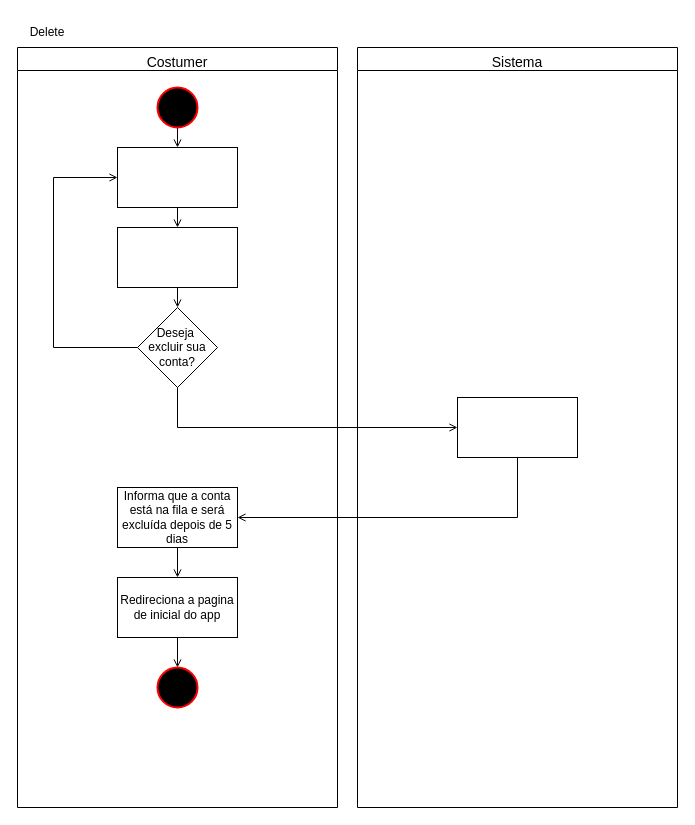
Image size: 695x825. Some labels were removed from this diagram. Each missing label, with the centre of its shape:
"Sistema recebe o pedido e coloca a conta na fila de exclusão" goes at point (517, 427).
"Usuário clicka deletar conta" goes at point (177, 257).
"Usuário estando na pagina de usuario" goes at point (177, 177).
